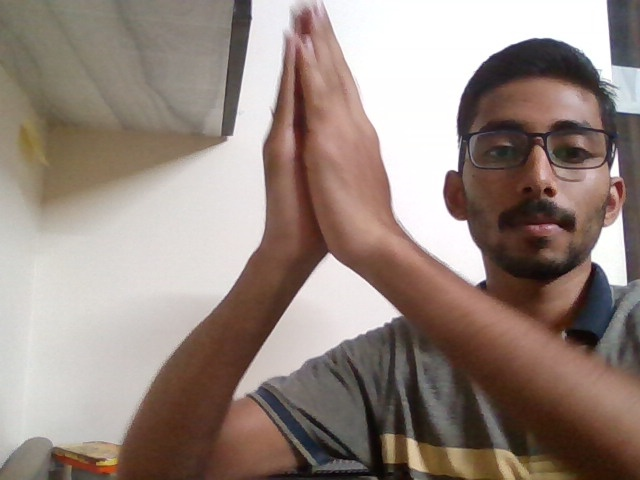Thank You: (223, 1, 421, 317)
